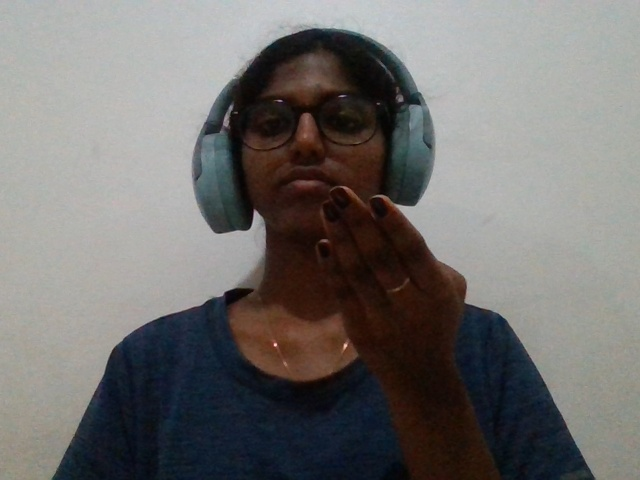Thanks: (271, 157, 487, 403)
